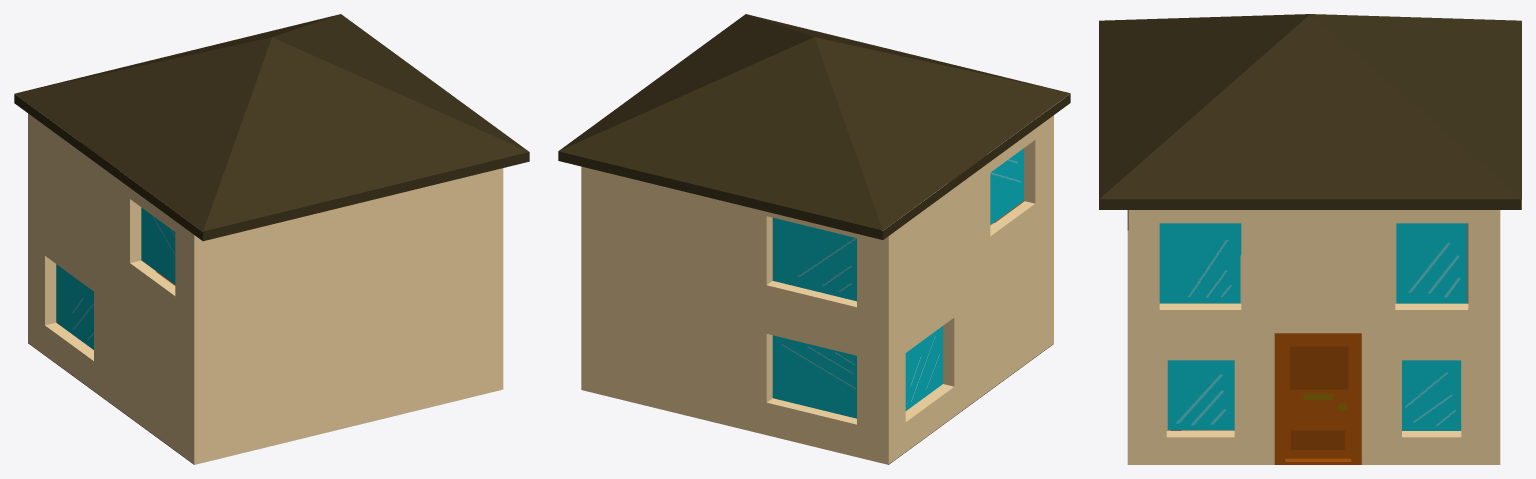
The model's file is house.fbx.
The picture shows the model from 3 angles, left to right: view 1: azimuth 30°, elevation 25°; view 2: azimuth 150°, elevation 25°; view 3: azimuth 270°, elevation 25°; orthographic projection. The views are drawn at different scales.
Visible parts, largest first — view 1: Cube; view 2: Cube; view 3: Cube.
Boxes of the visible parts, x1=… form: Cube: x1=14, y1=14, x2=529, y2=464; Cube: x1=558, y1=14, x2=1070, y2=464; Cube: x1=1099, y1=14, x2=1521, y2=464.
Bounding box in the file's own units: 2006 × 1932 × 2006.
Materials: 1 (1 with a texture image).
